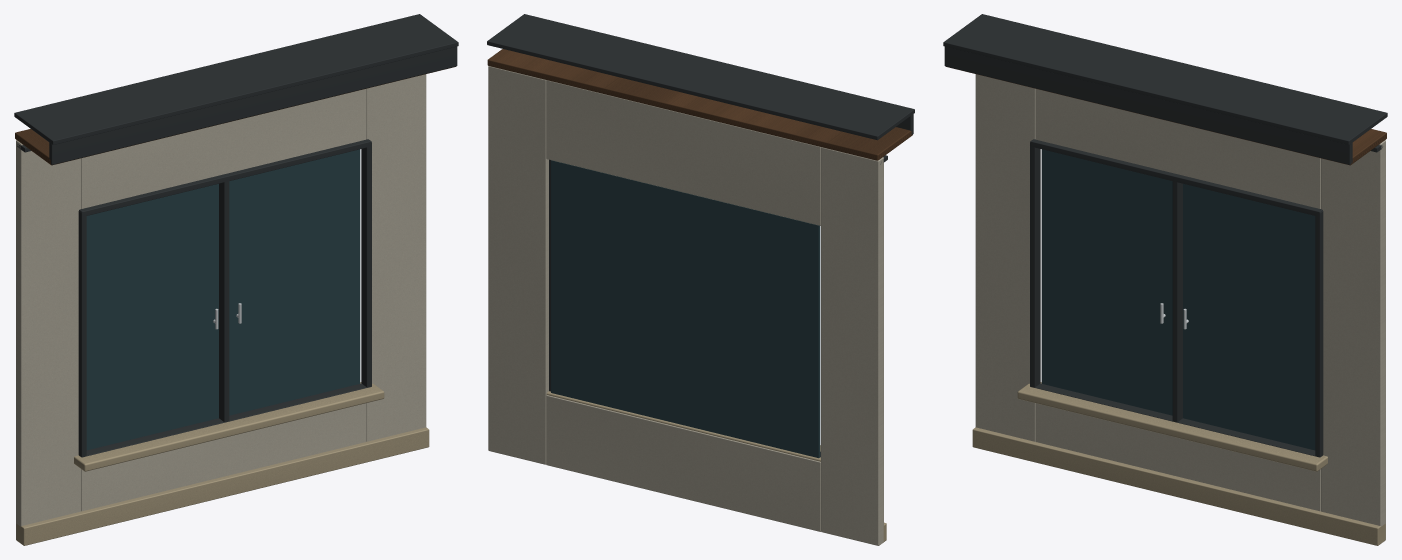
File: stucco-window-bay.glb
The picture shows the model from 3 angles, left to right: view 1: azimuth 30°, elevation 25°; view 2: azimuth 150°, elevation 25°; view 3: azimuth 330°, elevation 25°; orthographic projection. The views are drawn at different scales.
Parts seen in each view (by area): view 1: recessed-tinted-glazing, stucco-jamb, stucco-jamb.001, roof-edge-flashing, stucco-lintel, stucco-sill-wall, limestone-plinth, metal-fascia, projecting-window-sill, aluminium-window-mullion.002, aluminium-window-mullion.001, aluminium-window-transom.001 (+3 smaller); view 2: recessed-tinted-glazing, stucco-jamb, stucco-jamb.001, stucco-lintel, stucco-sill-wall, roof-edge-flashing, cedar-soffit, projecting-window-sill; view 3: recessed-tinted-glazing, stucco-jamb.001, stucco-jamb, roof-edge-flashing, stucco-lintel, stucco-sill-wall, limestone-plinth, metal-fascia, projecting-window-sill, aluminium-window-mullion, aluminium-window-mullion.001, aluminium-window-transom.001 (+3 smaller).
Part boxes in pixels (x1,y1,x2,y2): recessed-tinted-glazing: [86, 149, 360, 450]; stucco-jamb: [16, 140, 80, 539]; stucco-jamb.001: [366, 74, 426, 441]; roof-edge-flashing: [14, 14, 458, 144]; stucco-lintel: [81, 89, 366, 208]; stucco-sill-wall: [81, 403, 366, 511]; limestone-plinth: [16, 427, 429, 545]; metal-fascia: [49, 46, 457, 164]; projecting-window-sill: [74, 382, 384, 471]; aluminium-window-mullion.002: [361, 142, 371, 387]; aluminium-window-mullion.001: [219, 178, 229, 422]; aluminium-window-transom.001: [79, 139, 371, 216]; recessed-tinted-glazing: [551, 160, 820, 458]; stucco-jamb: [821, 147, 883, 545]; stucco-jamb.001: [488, 66, 548, 464]; stucco-lintel: [546, 80, 820, 225]; stucco-sill-wall: [546, 395, 820, 531]; roof-edge-flashing: [487, 14, 914, 140]; cedar-soffit: [487, 49, 912, 160]; projecting-window-sill: [546, 391, 820, 461]; recessed-tinted-glazing: [1041, 149, 1315, 450]; stucco-jamb.001: [1321, 140, 1385, 539]; stucco-jamb: [975, 74, 1035, 441]; roof-edge-flashing: [943, 14, 1387, 144]; stucco-lintel: [1035, 89, 1320, 208]; stucco-sill-wall: [1035, 403, 1320, 511]; limestone-plinth: [972, 427, 1385, 545]; metal-fascia: [944, 46, 1352, 164]; projecting-window-sill: [1017, 382, 1327, 471]; aluminium-window-mullion: [1030, 142, 1040, 387]; aluminium-window-mullion.001: [1172, 177, 1182, 422]; aluminium-window-transom.001: [1030, 139, 1322, 215].
Bounding box in the file's own units: 3.5 × 3.52 × 0.58.
Materials: 6 (3 with a texture image).
